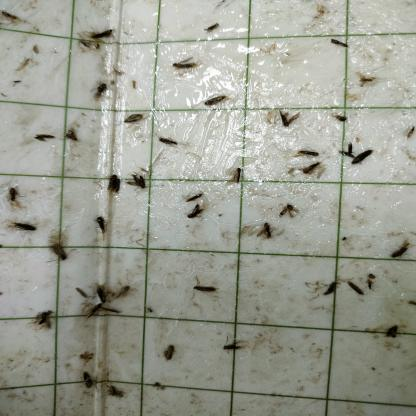prays_oleae: (387, 233, 413, 273), (10, 212, 43, 240), (190, 272, 216, 306), (126, 164, 150, 198), (172, 51, 198, 79), (276, 107, 300, 137), (201, 88, 226, 116), (218, 334, 248, 356), (122, 107, 146, 134), (157, 128, 180, 156), (48, 238, 70, 266), (93, 210, 111, 244), (89, 24, 116, 46), (276, 198, 300, 222), (330, 30, 348, 62), (344, 275, 364, 303), (351, 147, 374, 171), (383, 316, 402, 345), (114, 272, 132, 301), (35, 125, 55, 151), (78, 368, 96, 395), (104, 381, 124, 405), (36, 307, 54, 333), (256, 221, 276, 244), (301, 160, 323, 180), (185, 205, 204, 228), (92, 80, 110, 104), (160, 344, 178, 368), (83, 305, 105, 324), (204, 19, 222, 42), (323, 276, 341, 298), (94, 278, 108, 305), (340, 138, 354, 164), (73, 282, 90, 302), (67, 121, 81, 144), (298, 146, 321, 160), (185, 188, 202, 204), (333, 112, 349, 122), (406, 126, 416, 141), (367, 273, 376, 289)
